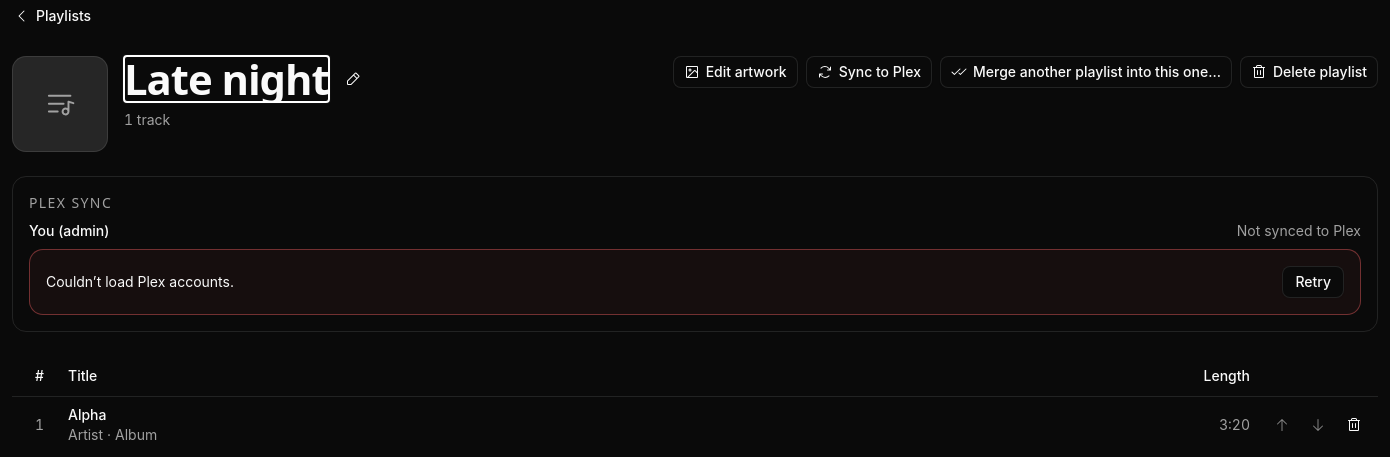
Test: PlaylistDetailPage › offers Retry in the picker when Plex accounts fail to load (non-409)
Check: the text "Couldn’t load Plex accounts." is shown, box top-left (46, 272), bottom-right (234, 292)
Step 1. Click the button "Retry" → (1313, 282), box top-left (1282, 266), bottom-right (1344, 298)
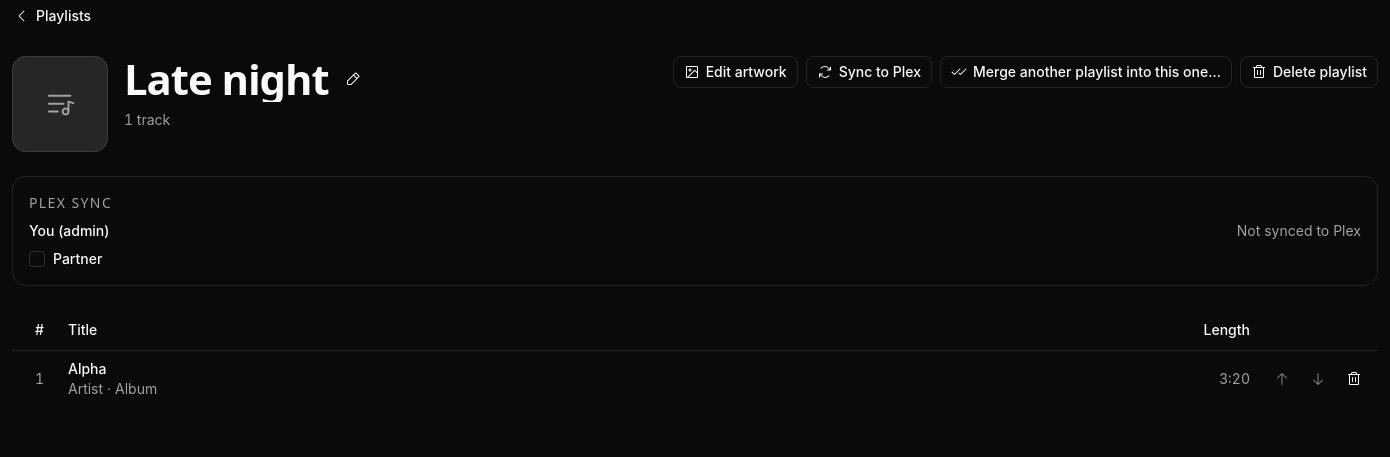
Check: the checkbox named "partner" is shown, box top-left (29, 251), bottom-right (45, 267)
